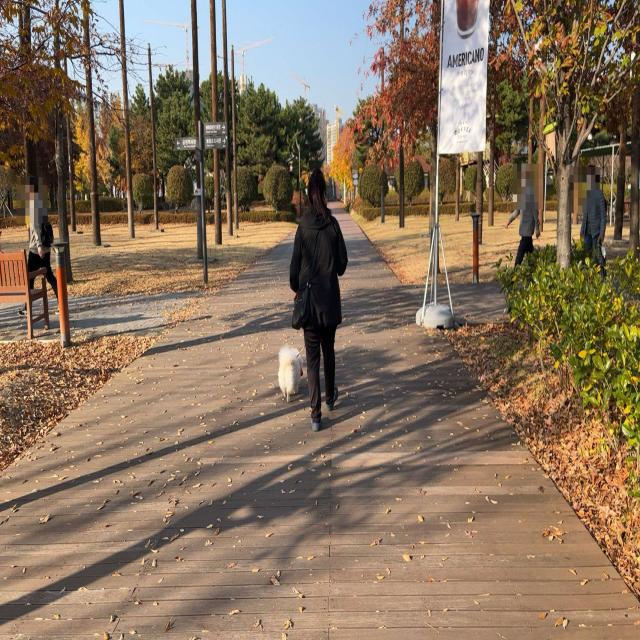Leashed_Dog: (277, 332, 315, 403)
